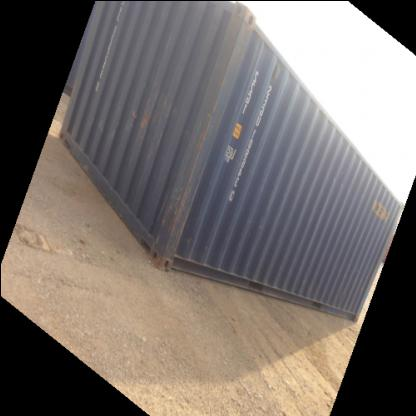Damage: (156, 119, 209, 253), (206, 6, 253, 100), (126, 96, 155, 128), (324, 166, 354, 192)
